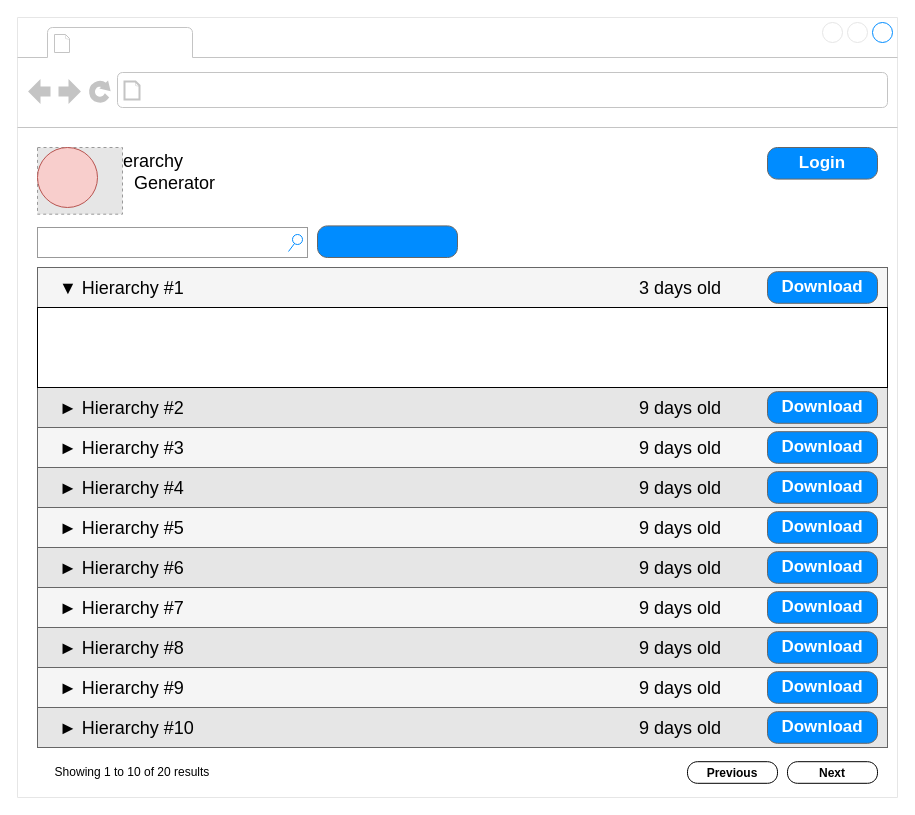
This 915x815 diagram has some shape labels left out. Grey dashed boxes stand in for pictures. The box of each missing label's shape, as (x1, y1, x2, y2) in pixels:
Hierachy Gen: (76, 28, 188, 56)
http://localhost:8080/: (146, 76, 398, 104)
Logo: (36, 146, 98, 208)
New Hierarchy: (316, 225, 458, 258)
Number of Node: 500 Number of End Users: 10 Number of Attributes: 10: (36, 306, 888, 388)
Search by hierarchy name: (36, 226, 308, 258)
